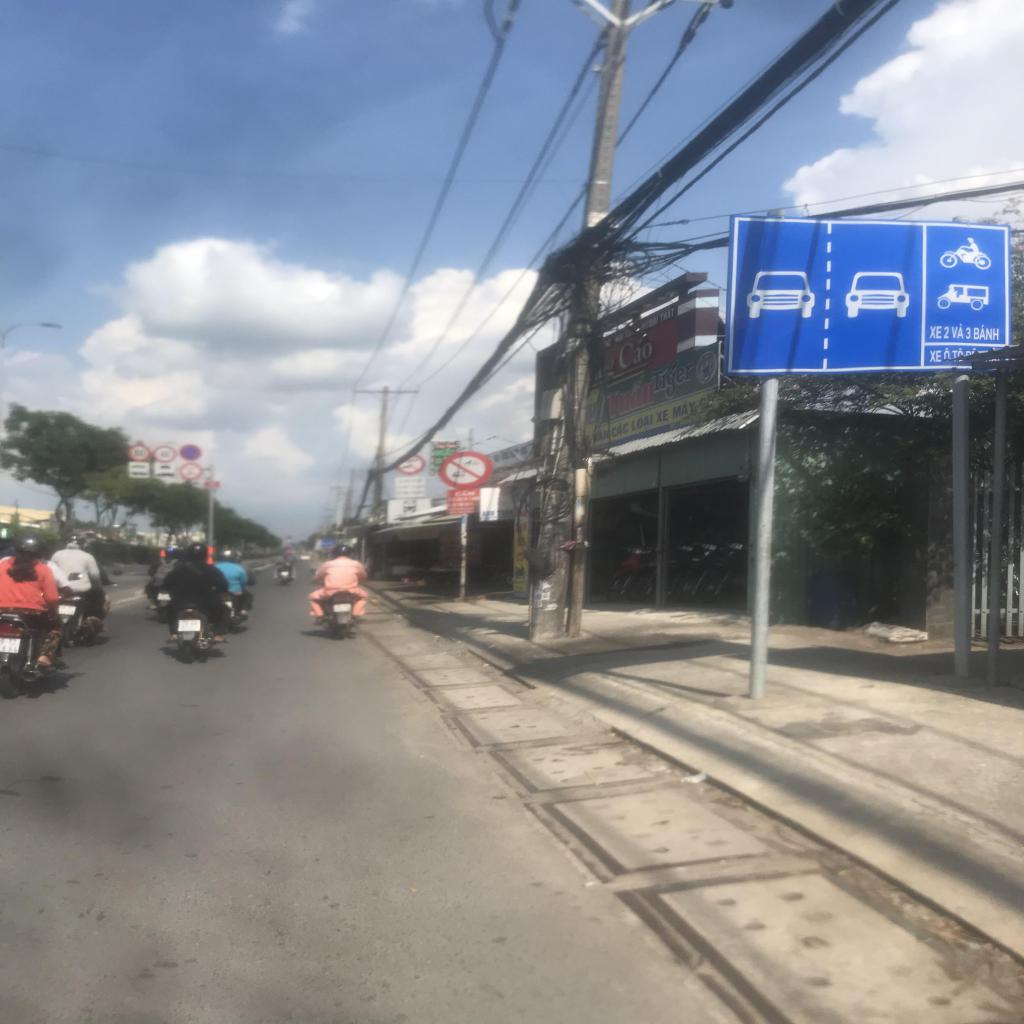cam_cac_loai_xe_3_banh: (440, 452, 492, 490)
cam_dung_xe_va_do_xe: (179, 444, 202, 462)
cam_o_to_tai_va_xe_khach: (396, 455, 424, 475)
cam_xe_2_banh_va_xe_3_banh_co_dong_co: (178, 462, 204, 481)
khac: (387, 499, 431, 522), (396, 477, 424, 498), (128, 462, 149, 470), (156, 463, 174, 471), (129, 471, 150, 477), (155, 472, 175, 478)
object: (723, 213, 1010, 372)
toc_do_toi_da_60: (152, 446, 177, 463)
toc_do_toi_da_80: (127, 444, 151, 462)
